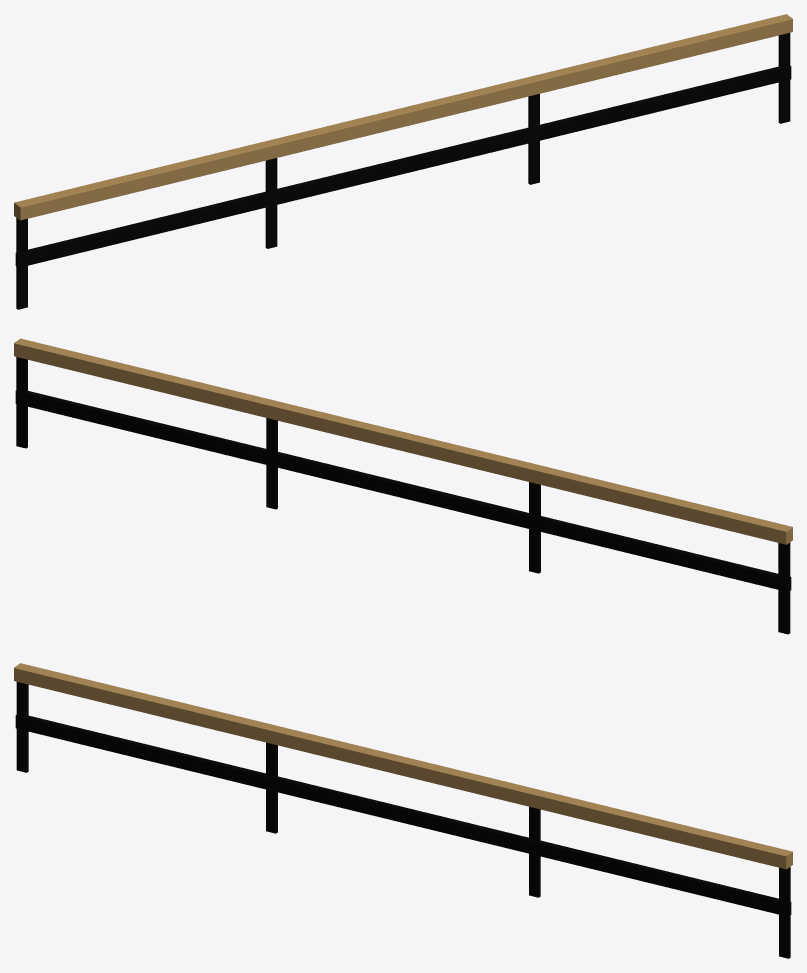
File: Balcony_Rail_02.fbx
The picture shows the model from 3 angles, top to bottom: view 1: azimuth 30°, elevation 25°; view 2: azimuth 150°, elevation 25°; view 3: azimuth 330°, elevation 25°; orthographic projection.
Parts seen in each view (by area): view 1: metal_railing, Balcony_Rail; view 2: metal_railing, Balcony_Rail; view 3: metal_railing, Balcony_Rail.
Boxes of the visible parts, x1,y1,x2,y2 form: metal_railing: (15,33,791,309); Balcony_Rail: (14,14,792,220); metal_railing: (15,357,791,634); Balcony_Rail: (14,338,792,544); metal_railing: (15,682,791,958); Balcony_Rail: (14,663,792,869).
Bounding box in the file's own units: 807 × 104 × 11.98.
